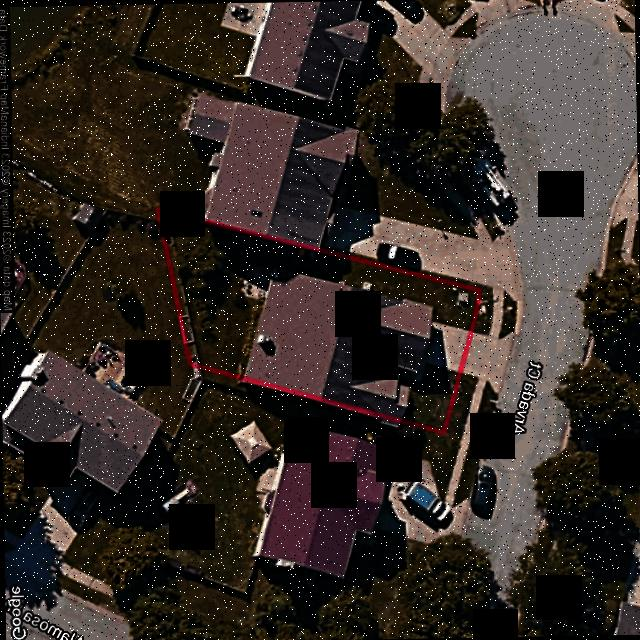Driveway: (396, 319, 468, 379)
Extra Driveway: (463, 329, 514, 395)
Extra Lawn: (445, 373, 478, 438), (469, 377, 497, 444), (475, 289, 493, 334), (499, 295, 516, 336)
Extra Sidewalk: (461, 376, 487, 440), (489, 293, 503, 337)
House: (243, 271, 432, 417)
Other: (241, 262, 271, 297)
